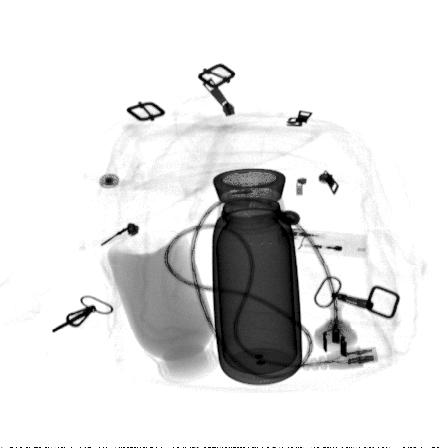Lighter: (277, 227, 368, 260)
